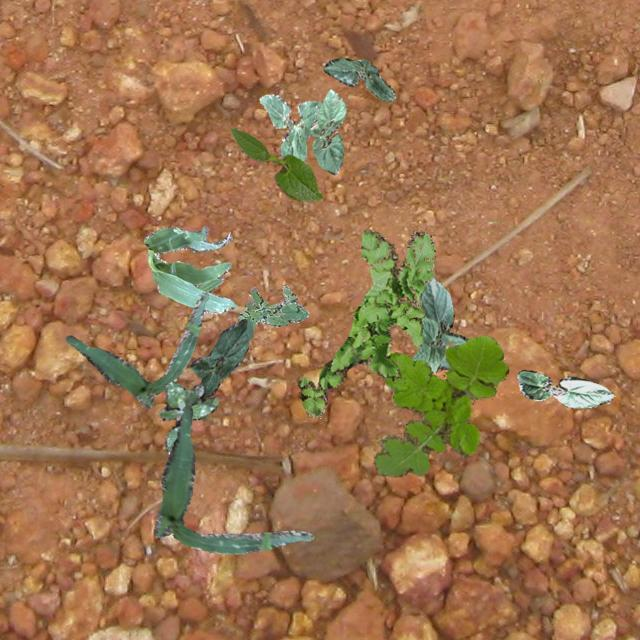crop: (152, 404, 314, 554), (64, 290, 208, 406), (142, 225, 238, 312), (230, 126, 322, 200), (411, 276, 468, 372), (190, 316, 252, 398), (258, 94, 322, 162), (516, 368, 612, 406), (308, 88, 346, 174), (322, 58, 394, 100)
weed: (296, 228, 434, 418), (372, 334, 508, 476), (157, 380, 215, 452), (236, 284, 308, 328)
